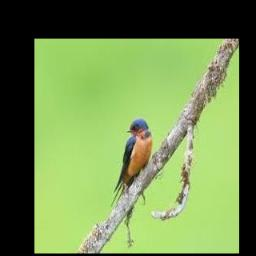Swallow: (111, 118, 153, 209)
